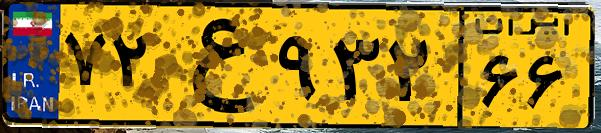2: (385, 28, 445, 110), (110, 28, 158, 98)
3: (330, 28, 385, 110)
6: (475, 38, 525, 113), (525, 38, 570, 115)
7: (57, 26, 110, 100)
9: (270, 28, 330, 110)
ع: (158, 12, 270, 120)
